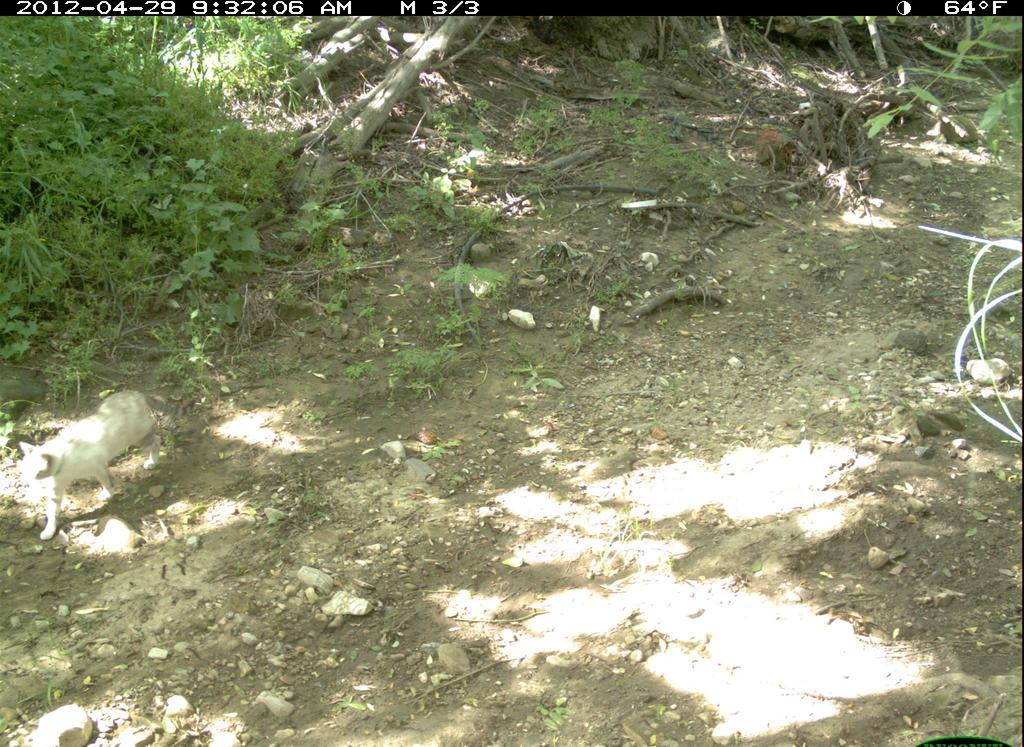cat: (15, 385, 201, 545)
